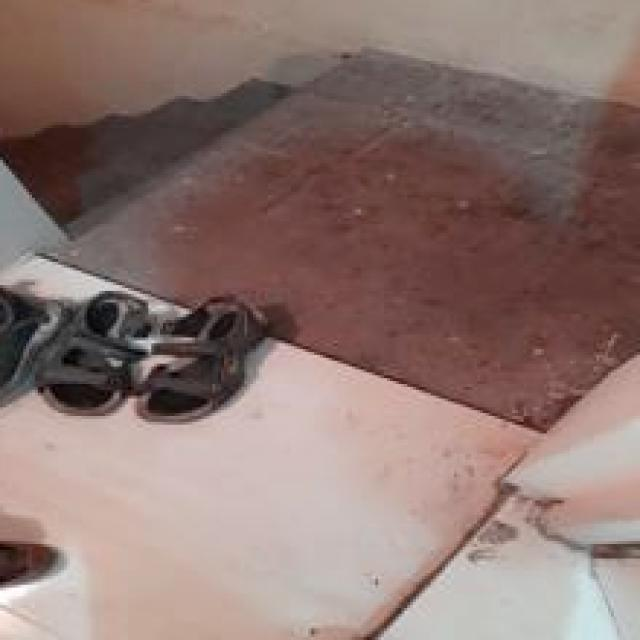downstair: (36, 62, 301, 216)
